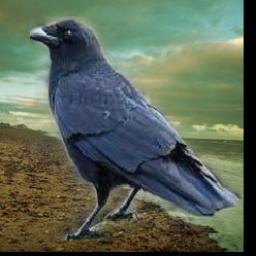Crow: (29, 16, 241, 241)
